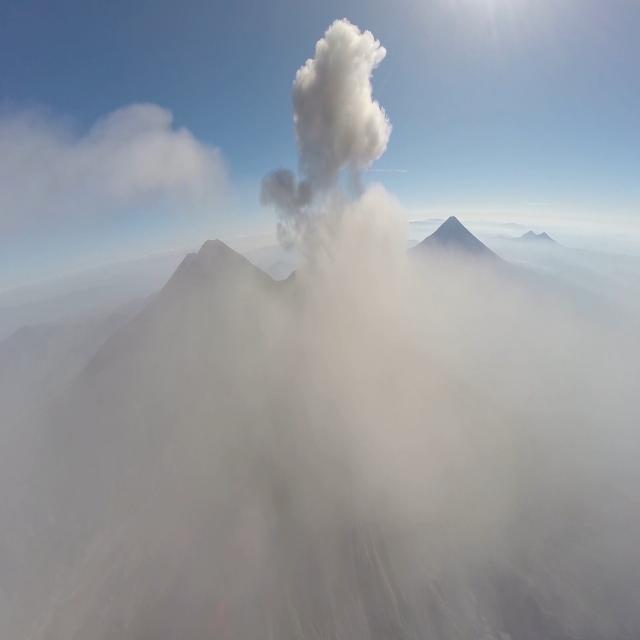Plume: (0, 170, 639, 640), (284, 12, 402, 242)
